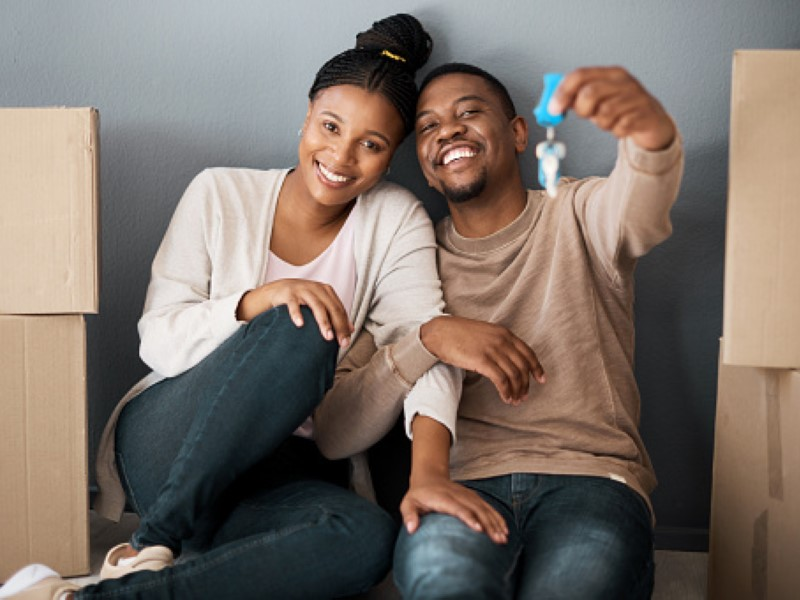key: (532, 70, 564, 198)
